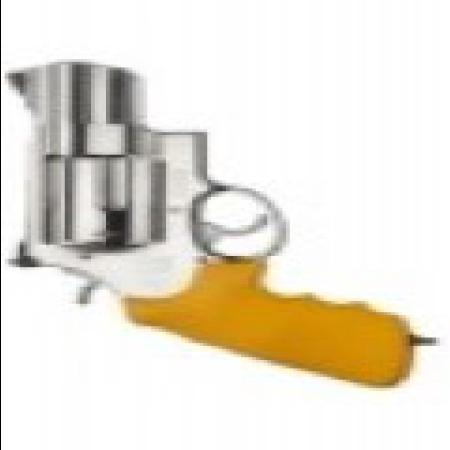Pistol: (7, 62, 402, 394)
